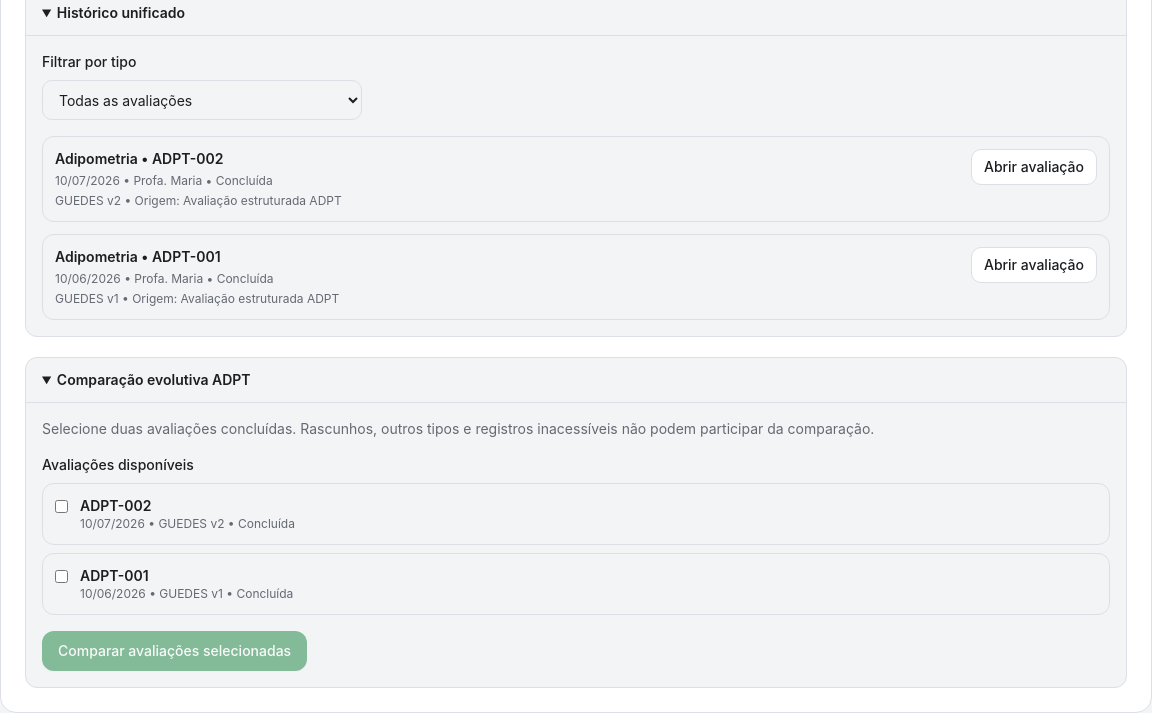
Test: AlunoAdipometryEvolutionCard › compara somente concluidas com unidades, campo indisponivel e aviso de protocolo
(page scrolled)
Click the checkbox labelled "ADPT-002 10/07/2026 • GUEDES v2 • Concluída": [62, 506] box [55,500,68,513]
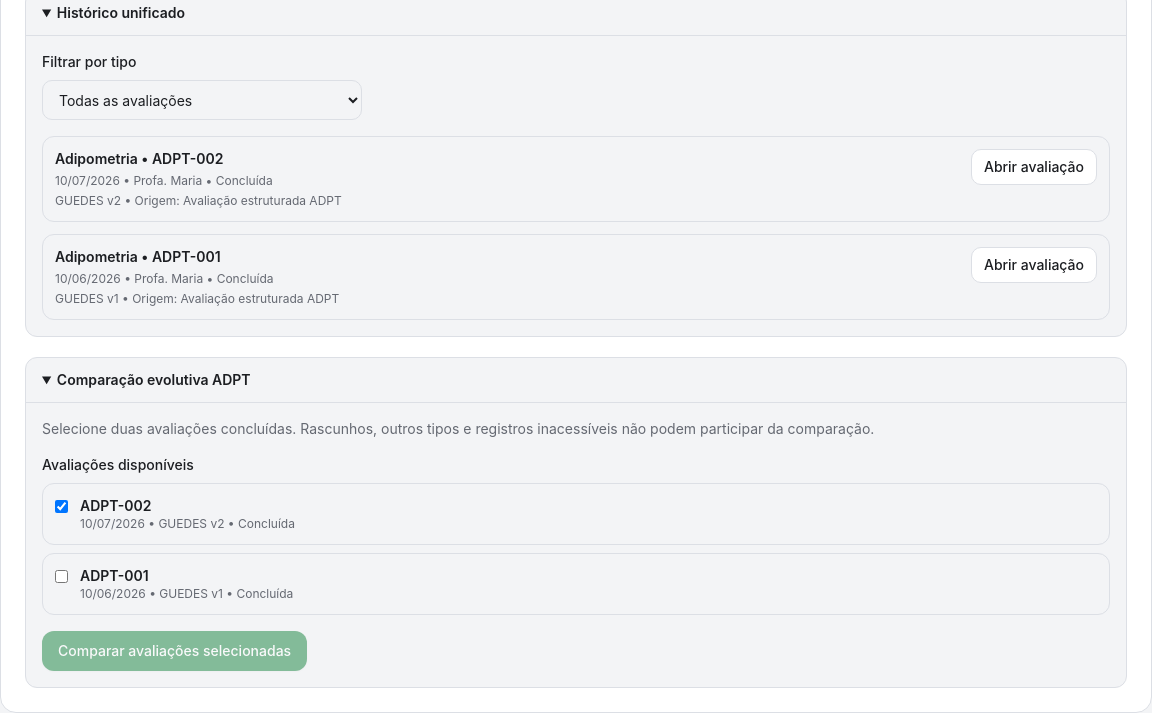
Click the checkbox labelled "ADPT-001 10/06/2026 • GUEDES v1 • Concluída": [62, 576] box [55,570,68,583]
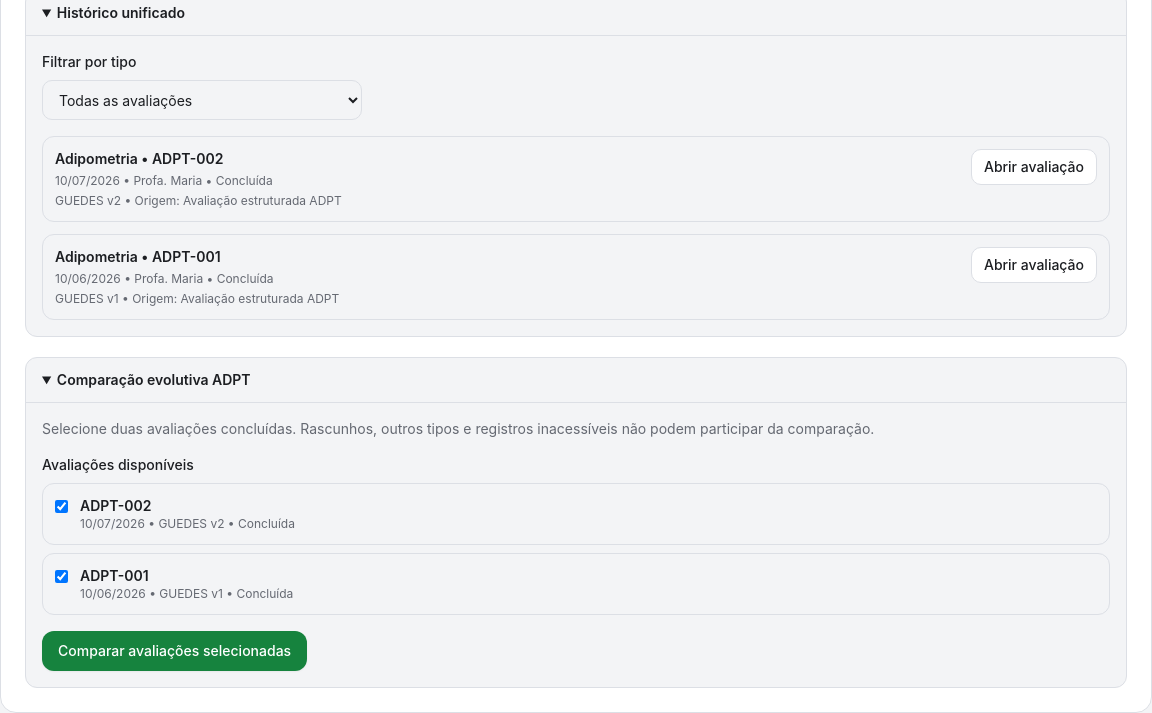
Click the button "Comparar avaliações selecionadas": [175, 651] box [42,631,307,671]
(page scrolled)
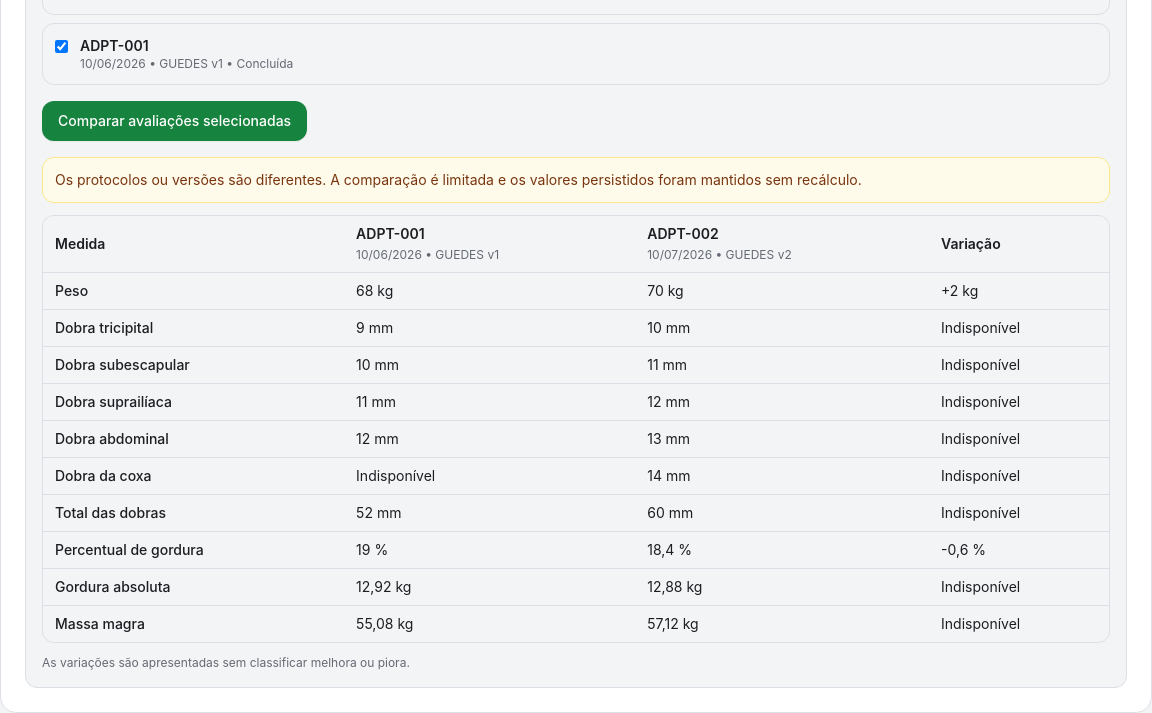
Expected: the text "comparação é limitada" is shown, [55,171,862,188]
Expected: the table is shown, [43,216,1109,642]
Expected: the text "+2 kg" is shown, [929,272,1109,310]
